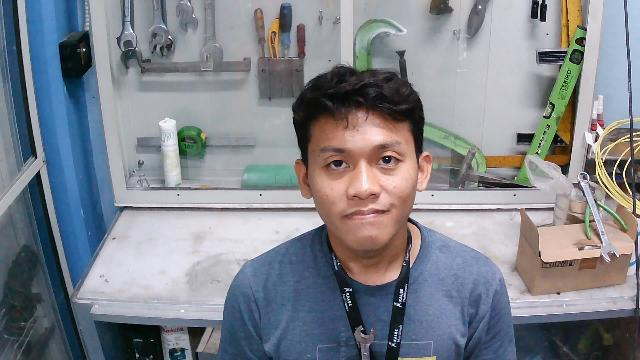kunci_pass_13: (342, 317, 384, 360)
